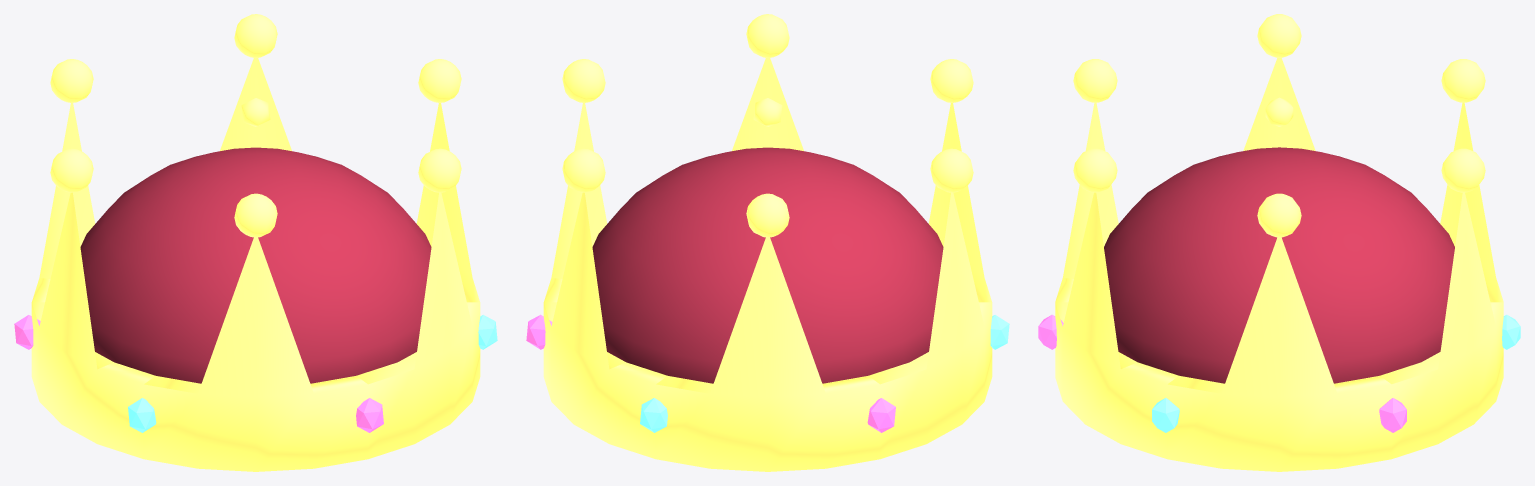
Rendered from Trophy_DroneCrownHat.fbx.
The picture shows the model from 3 angles, left to right: view 1: azimuth 30°, elevation 25°; view 2: azimuth 150°, elevation 25°; view 3: azimuth 270°, elevation 25°; orthographic projection.
Visible parts, largest first — view 1: CrownGoldBand, VelvetDome, CrownRubies, CrownSapphires; view 2: CrownGoldBand, VelvetDome, CrownRubies, CrownSapphires; view 3: CrownGoldBand, VelvetDome, CrownRubies, CrownSapphires.
Part boxes in pixels (x1,y1,x2,y2): CrownGoldBand: (31,14,480,471); VelvetDome: (80,147,431,383); CrownRubies: (14,315,383,432); CrownSapphires: (128,314,497,432); CrownGoldBand: (543,14,992,471); VelvetDome: (592,147,943,383); CrownRubies: (526,314,895,432); CrownSapphires: (640,315,1009,432); CrownGoldBand: (1055,14,1503,471); VelvetDome: (1104,147,1454,383); CrownRubies: (1038,314,1406,432); CrownSapphires: (1152,314,1520,432).
Bounding box in the file's own units: 0.1583 × 0.1136 × 0.1634.
